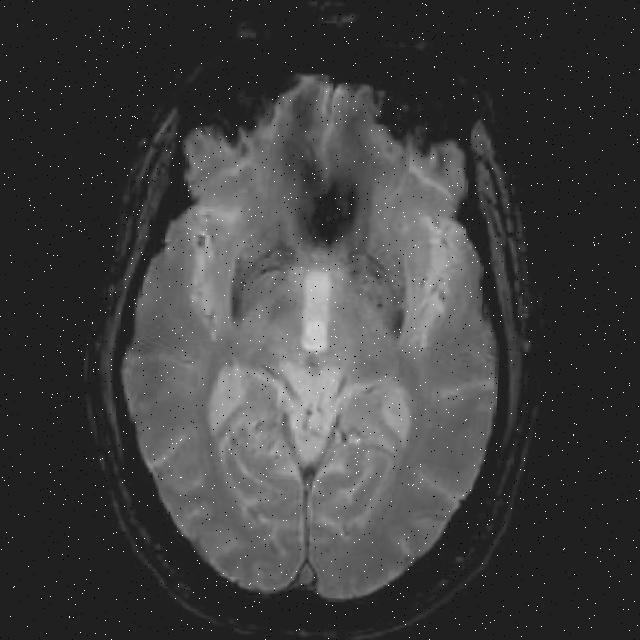MCI: (237, 195, 304, 329), (338, 254, 429, 322), (298, 166, 370, 218)
